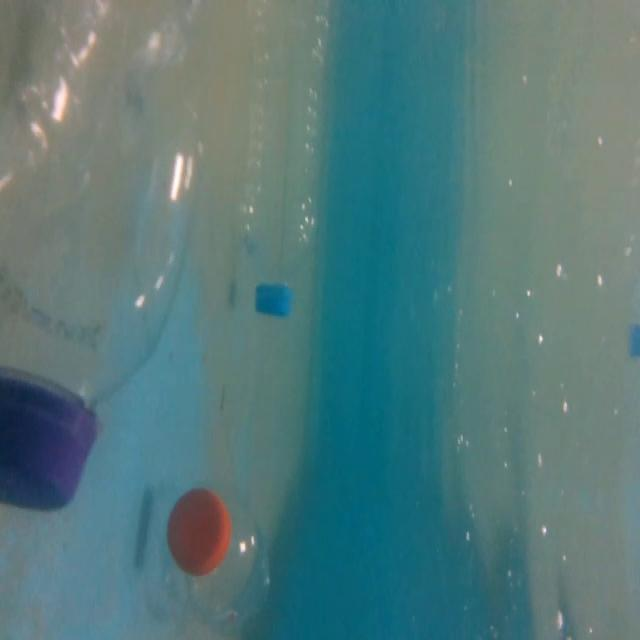plastic bottle: (1, 0, 217, 512), (239, 7, 335, 326), (153, 489, 289, 631)
